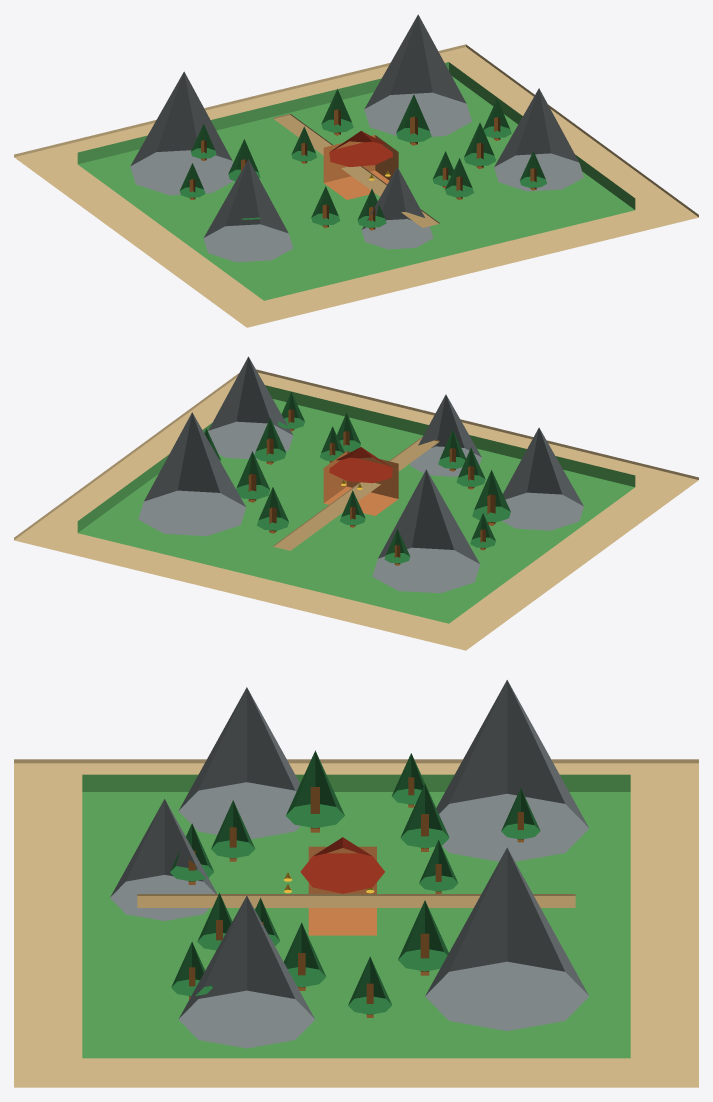
Rendered from world.gltf.
3 renders of one model, top to bottom at view 1: azimuth 30°, elevation 25°; view 2: azimuth 150°, elevation 25°; view 3: azimuth 270°, elevation 25°, orthographic. The views are drawn at different scales.
Visible parts, largest first — view 1: Island terrain, Beach, Mountain 2, Mountain 1, Mountain 4, Mountain 3, Mountain 5, Cabin, Village path, Cabin roof, Tree canopy 3, Tree canopy 4 (+7 smaller); view 2: Island terrain, Beach, Mountain 2, Mountain 1, Mountain 4, Mountain 3, Mountain 5, Village path, Cabin, Cabin roof, Tree canopy 1, Tree canopy 3 (+9 smaller); view 3: Island terrain, Beach, Mountain 2, Mountain 1, Mountain 3, Mountain 4, Mountain 5, Village path, Cabin roof, Cabin, Tree canopy 1, Tree canopy 3 (+10 smaller).
Boxes of the visible parts, x1=… form: Island terrain: x1=77, y1=62, x2=635, y2=300; Beach: x1=14, y1=44, x2=698, y2=327; Mountain 2: x1=364, y1=14, x2=471, y2=136; Mountain 1: x1=130, y1=71, x2=233, y2=195; Mountain 4: x1=203, y1=159, x2=293, y2=262; Mountain 3: x1=494, y1=88, x2=583, y2=191; Mountain 5: x1=361, y1=167, x2=433, y2=249; Cabin: x1=323, y1=135, x2=398, y2=199; Village path: x1=273, y1=113, x2=439, y2=227; Cabin roof: x1=329, y1=131, x2=392, y2=166; Tree canopy 3: x1=396, y1=94, x2=431, y2=142; Tree canopy 4: x1=464, y1=122, x2=495, y2=165; Island terrain: x1=77, y1=385, x2=635, y2=623; Beach: x1=14, y1=369, x2=698, y2=650; Mountain 2: x1=138, y1=412, x2=246, y2=536; Mountain 1: x1=372, y1=469, x2=480, y2=593; Mountain 4: x1=502, y1=427, x2=583, y2=530; Mountain 3: x1=208, y1=356, x2=293, y2=459; Mountain 5: x1=410, y1=394, x2=481, y2=476; Village path: x1=273, y1=436, x2=439, y2=550; Cabin: x1=323, y1=451, x2=398, y2=515; Cabin roof: x1=329, y1=447, x2=392, y2=483; Tree canopy 1: x1=472, y1=470, x2=510, y2=522; Tree canopy 3: x1=236, y1=451, x2=269, y2=499; Island terrain: x1=82, y1=774, x2=630, y2=1058; Beach: x1=14, y1=759, x2=698, y2=1087; Mountain 2: x1=425, y1=847, x2=589, y2=1030; Mountain 1: x1=436, y1=680, x2=589, y2=861; Mountain 3: x1=178, y1=896, x2=315, y2=1048; Mountain 4: x1=178, y1=687, x2=300, y2=839; Mountain 5: x1=110, y1=799, x2=216, y2=920; Village path: x1=137, y1=894, x2=575, y2=907; Cabin roof: x1=300, y1=837, x2=384, y2=893; Cabin: x1=308, y1=846, x2=376, y2=935; Tree canopy 1: x1=286, y1=750, x2=344, y2=828; Tree canopy 3: x1=398, y1=900, x2=448, y2=971.
Size of what is drawn, in the model's own units: 56 by 12.81 by 50.
